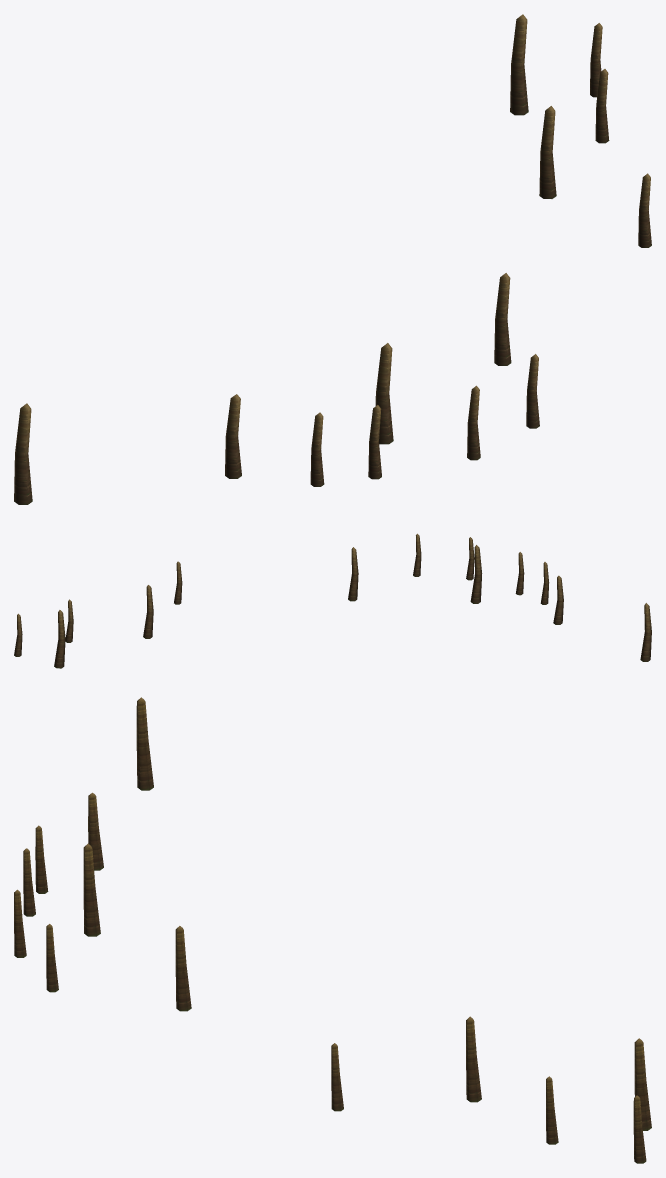
The model's file is shugan02.fbx.
3 renders of one model, top to bottom at view 1: azimuth 30°, elevation 25°; view 2: azimuth 150°, elevation 25°; view 3: azimuth 270°, elevation 25°, orthographic. The views are drawn at different scales.
Parts seen in each view (by area): view 1: shugan02; view 2: shugan02; view 3: shugan02.
Part boxes in pixels (x1=…): shugan02: x1=14, y1=14, x2=651, y2=504; shugan02: x1=14, y1=533, x2=651, y2=668; shugan02: x1=14, y1=697, x2=651, y2=1163.
Bounding box in the file's own units: 5711 × 641 × 4044.
1 material, 1 textured.
